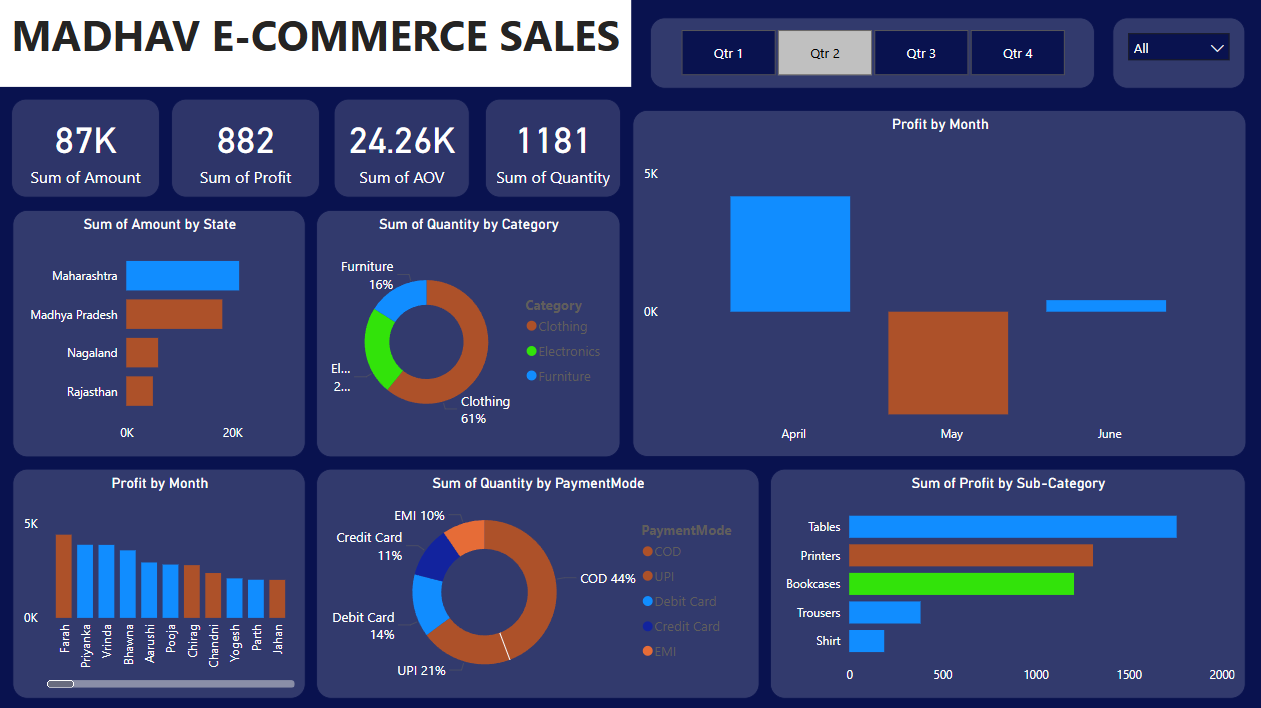

The page's visual inventory and layout, read from the dashboard file:
{"tool":"powerbi","page":{"name":"Page 1","canvas":[1280,720],"ordinal":0},"visuals":[{"type":"textbox","box":[0,0,639.4,88.3],"z":0},{"type":"columnChart","title":"Profit by Month","fields":{"Category":["Orders.Order_Date.Variation.Date Hierarchy.Month"],"Y":["Details.Profit"]},"box":[640.6,110.9,621.9,351.6],"z":1000},{"type":"barChart","fields":{"Category":["Details.Sub-Category"],"Y":["Details.Profit"]},"box":[779.7,475,481.2,232.8],"z":2000},{"type":"donutChart","fields":{"Category":["Details.Category"],"Y":["Details.Quantity"]},"box":[320.3,212.5,307.8,250],"z":3000},{"type":"donutChart","fields":{"Category":["Details.PaymentMode"],"Y":["Details.Quantity"]},"box":[320.3,475,448.4,232.8],"z":4000},{"type":"card","fields":{"Values":["Details.Amount"]},"box":[10.9,100,150,100],"z":5000},{"type":"card","fields":{"Values":["Details.Quantity"]},"box":[490.6,100,137.5,100],"z":6000},{"type":"card","fields":{"Values":["Details.Profit"]},"box":[173.4,100,150,100],"z":7000},{"type":"card","fields":{"Values":["Details.AOV"]},"box":[337.5,100,137.5,100],"z":8000},{"type":"columnChart","title":"Profit by Month","fields":{"Category":["Orders.CustomerName"],"Y":["Details.Amount"]},"box":[12.5,475,296.9,232.8],"z":9000},{"type":"barChart","fields":{"Category":["Orders.State"],"Y":["Details.Amount"]},"box":[12.5,212.5,296.9,250],"z":10000},{"type":"slicer","fields":{"Values":["Orders.Order_Date.Variation.Date Hierarchy.Quarter"]},"box":[657.8,17.2,450,71.9],"z":11000},{"type":"slicer","fields":{"Values":["Orders.State"]},"box":[1126.6,17.2,134.4,71.9],"z":12000}]}

Visuals, with their boxes in screenshot pixels (x1, y1, x2, y2), scaled from the page's 1280x720 canvas onto the 1261x708 screenshot:
textbox: (left=0, top=0, right=630, bottom=87)
"Profit by Month" columnChart: (left=631, top=109, right=1244, bottom=455)
barChart - Details.Sub-Category x Details.Profit: (left=768, top=467, right=1242, bottom=696)
donutChart - Details.Category x Details.Quantity: (left=316, top=209, right=619, bottom=455)
donutChart - Details.PaymentMode x Details.Quantity: (left=316, top=467, right=757, bottom=696)
card - Details.Amount: (left=11, top=98, right=159, bottom=197)
card - Details.Quantity: (left=483, top=98, right=619, bottom=197)
card - Details.Profit: (left=171, top=98, right=319, bottom=197)
card - Details.AOV: (left=332, top=98, right=468, bottom=197)
"Profit by Month" columnChart: (left=12, top=467, right=305, bottom=696)
barChart - Orders.State x Details.Amount: (left=12, top=209, right=305, bottom=455)
slicer - Orders.Order_Date.Variation.Date Hierarchy.Quarter: (left=648, top=17, right=1091, bottom=88)
slicer - Orders.State: (left=1110, top=17, right=1242, bottom=88)
